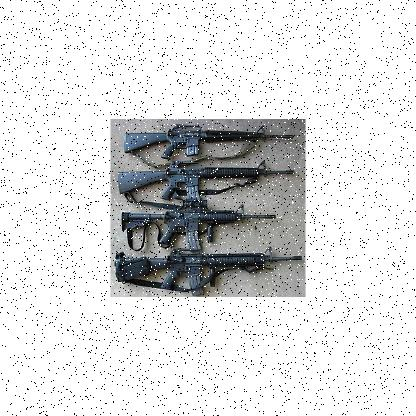gun: (110, 248, 300, 298), (118, 160, 296, 200), (117, 209, 273, 248), (119, 124, 293, 158)
